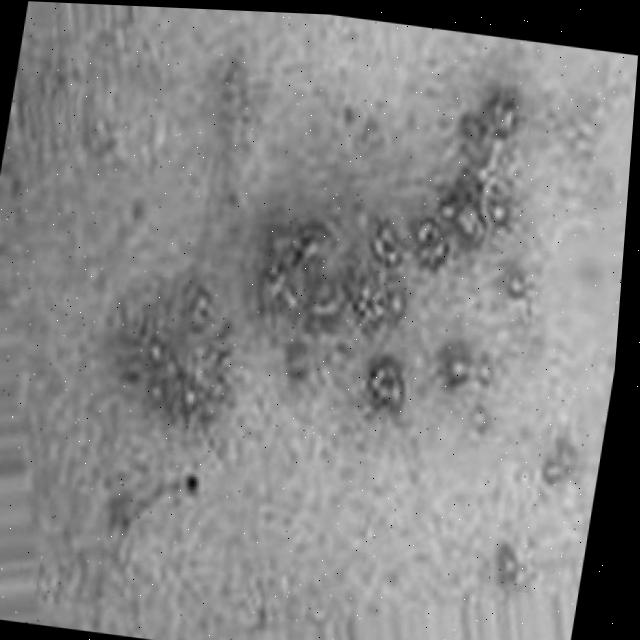Shingles: (243, 81, 528, 404), (123, 289, 234, 418)
